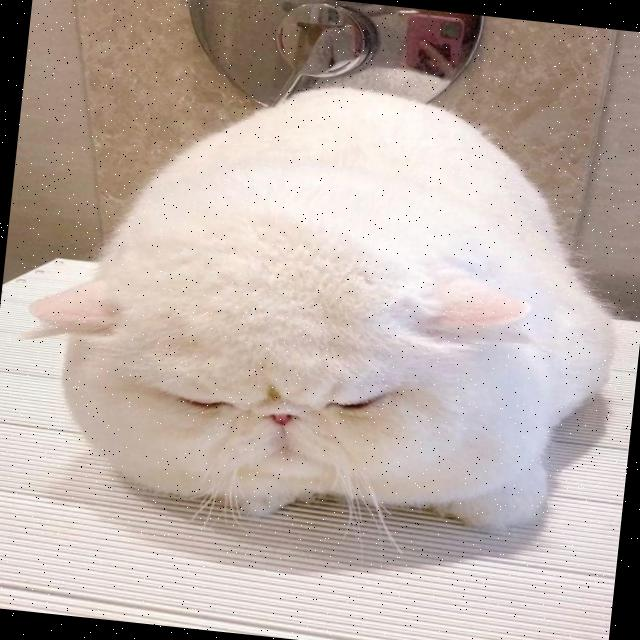cat: (39, 36, 619, 548)
